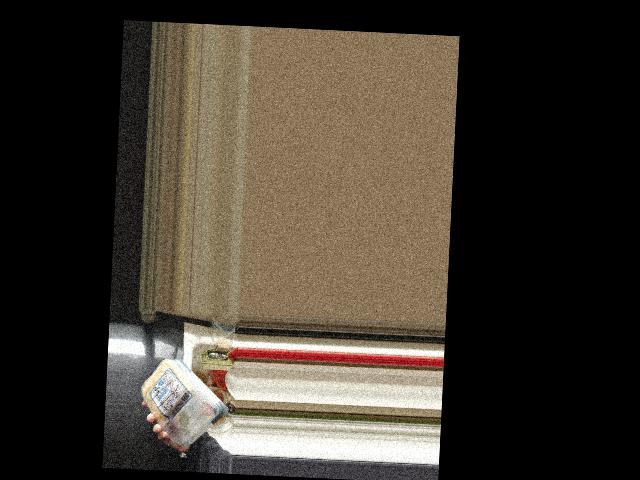cheese: (143, 356, 217, 447)
